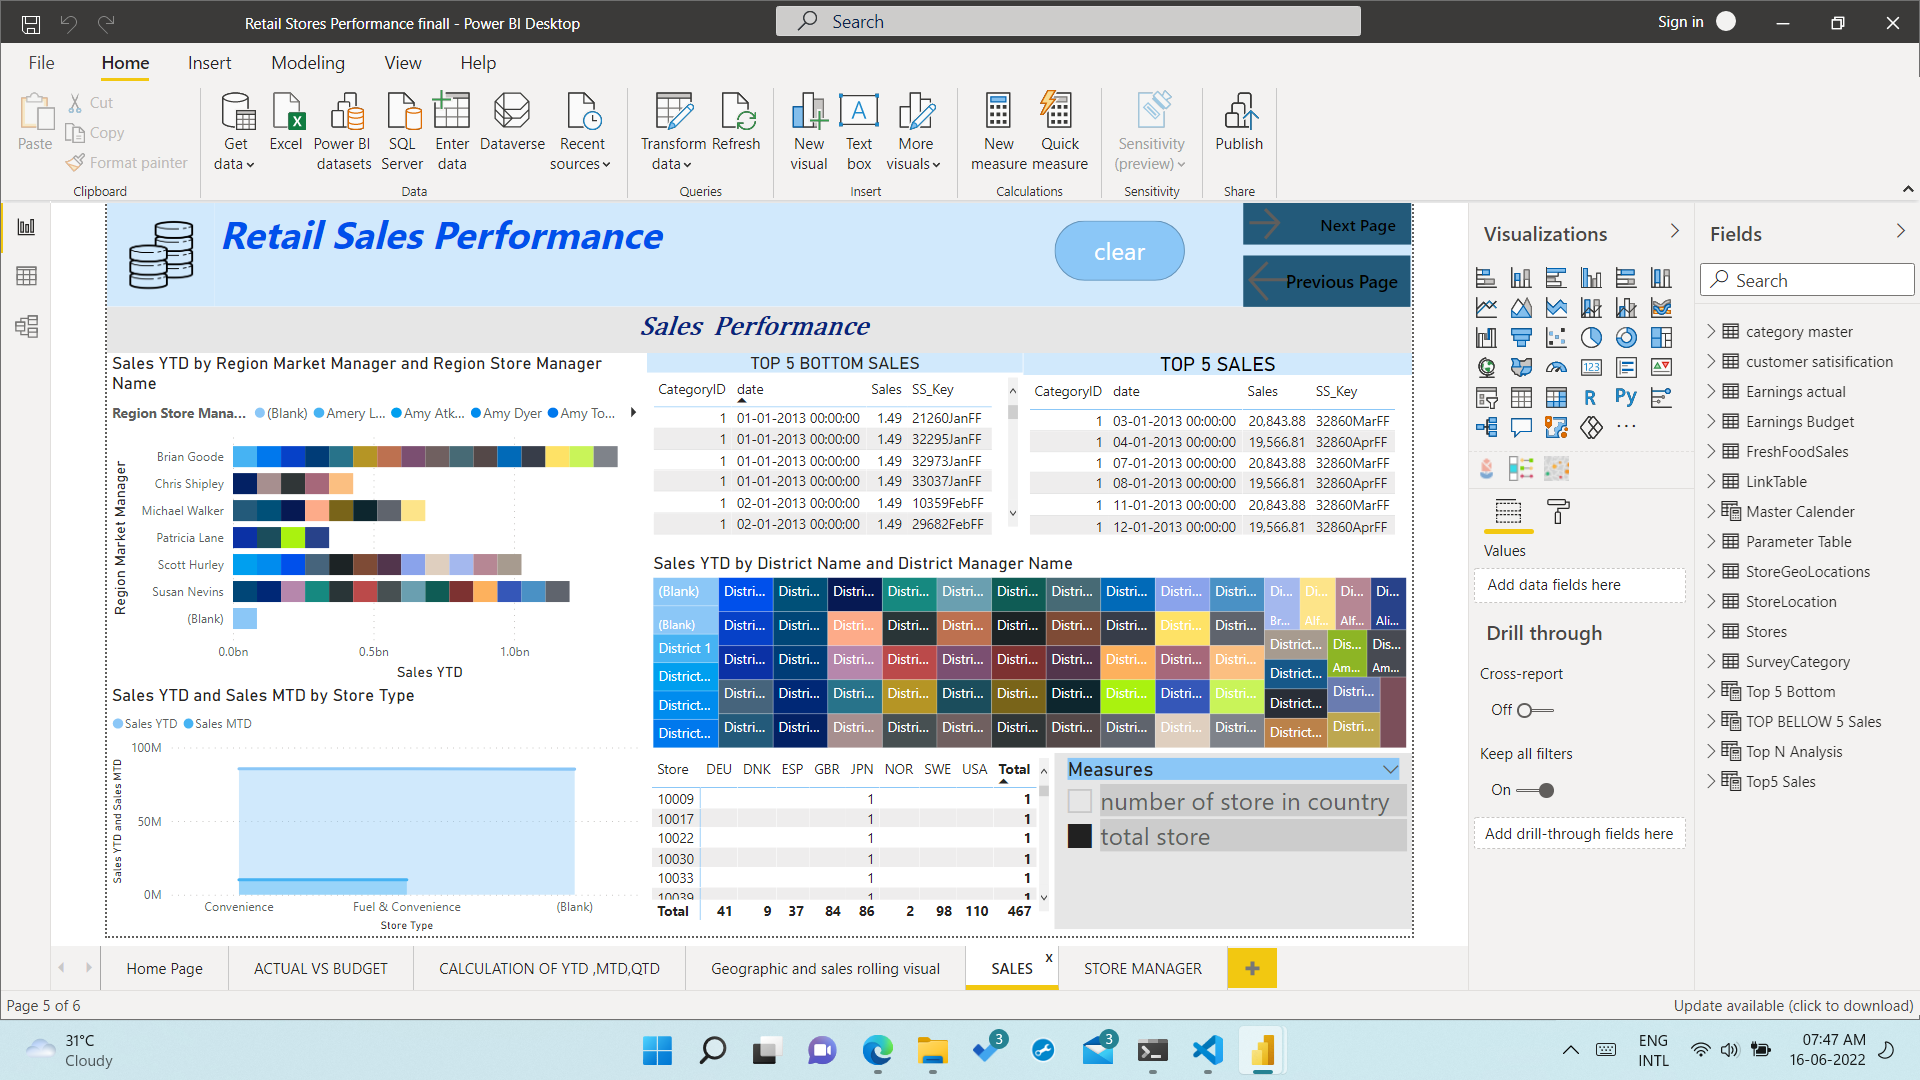

The dashboard page shown, as its layout file describes it:
{"tool":"powerbi","page":{"name":"SALES","canvas":[1280,720],"ordinal":4},"visuals":[{"type":"image","box":[0,0,105.8,101.6],"z":0},{"type":"textbox","box":[105.8,0,1174.2,101.6],"z":1000},{"type":"textbox","box":[0,101.6,1280,45.3],"z":2000},{"type":"barChart","fields":{"Y":["FreshFoodSales.Sales YTD"],"Series":["Stores.Region Store Manager Name"],"Category":["Stores.Region Market Manager"]},"box":[0,146.9,530,325.7],"z":3000},{"type":"treemap","fields":{"Group":["Stores.District Name"],"Values":["FreshFoodSales.Sales YTD"],"Details":["Stores.District Manager Name"]},"box":[531.6,343.2,748.7,196.4],"z":4000},{"type":"areaChart","fields":{"Category":["Stores.Store Type","Stores.Store"],"Y":["FreshFoodSales.Sales YTD","FreshFoodSales.Sales MTD"]},"box":[0,472.5,530,247.5],"z":5000},{"type":"actionButton","box":[1115.5,51.4,163.6,50],"z":6000},{"type":"actionButton","box":[1115.5,0,165,40.6],"z":7000},{"type":"tableEx","title":"TOP 5 SALES","fields":{"Values":["CountNonNull(Top5 Sales.CategoryID)","Top5 Sales.date","Sum(Top5 Sales.Sales)","Top5 Sales.SS_Key"]},"box":[898.8,146.9,381.6,196.4],"z":8000},{"type":"tableEx","title":"TOP 5 BOTTOM SALES","fields":{"Values":["CountNonNull(Top 5 Bottom.CategoryID)","Top 5 Bottom.date","Sum(Top 5 Bottom.Sales)","Top 5 Bottom.SS_Key"]},"box":[530,146.9,368.8,183.6],"z":9000},{"type":"pivotTable","fields":{"Values":["StoreLocation.Dynamic Measure"],"Rows":["StoreLocation.Store"],"Columns":["StoreLocation.Country"]},"box":[530,539.6,399.1,169.2],"z":10000},{"type":"slicer","fields":{"Values":["Parameter Table.Measures"]},"box":[929.1,539.6,351.2,172.4],"z":11000},{"type":"shape","box":[929.1,17.6,127.7,59.1],"z":12000}]}

Visuals, with their boxes on the page's 1280x720 design canvas (x1, y1, x2, y2). These are canvas units, not pixel positions in the 1920x1080 screenshot, which may show the page scaled, cropped or inside an application window:
image: box(0, 0, 106, 102)
textbox: box(106, 0, 1280, 102)
textbox: box(0, 102, 1280, 147)
barChart - FreshFoodSales.Sales YTD x Stores.Region Store Manager Name: box(0, 147, 530, 473)
treemap - Stores.District Name x FreshFoodSales.Sales YTD: box(532, 343, 1280, 540)
areaChart - Stores.Store Type x Stores.Store: box(0, 472, 530, 720)
actionButton: box(1116, 51, 1279, 101)
actionButton: box(1116, 0, 1280, 41)
"TOP 5 SALES" tableEx: box(899, 147, 1280, 343)
"TOP 5 BOTTOM SALES" tableEx: box(530, 147, 899, 330)
pivotTable - StoreLocation.Dynamic Measure x StoreLocation.Store: box(530, 540, 929, 709)
slicer - Parameter Table.Measures: box(929, 540, 1280, 712)
shape: box(929, 18, 1057, 77)
